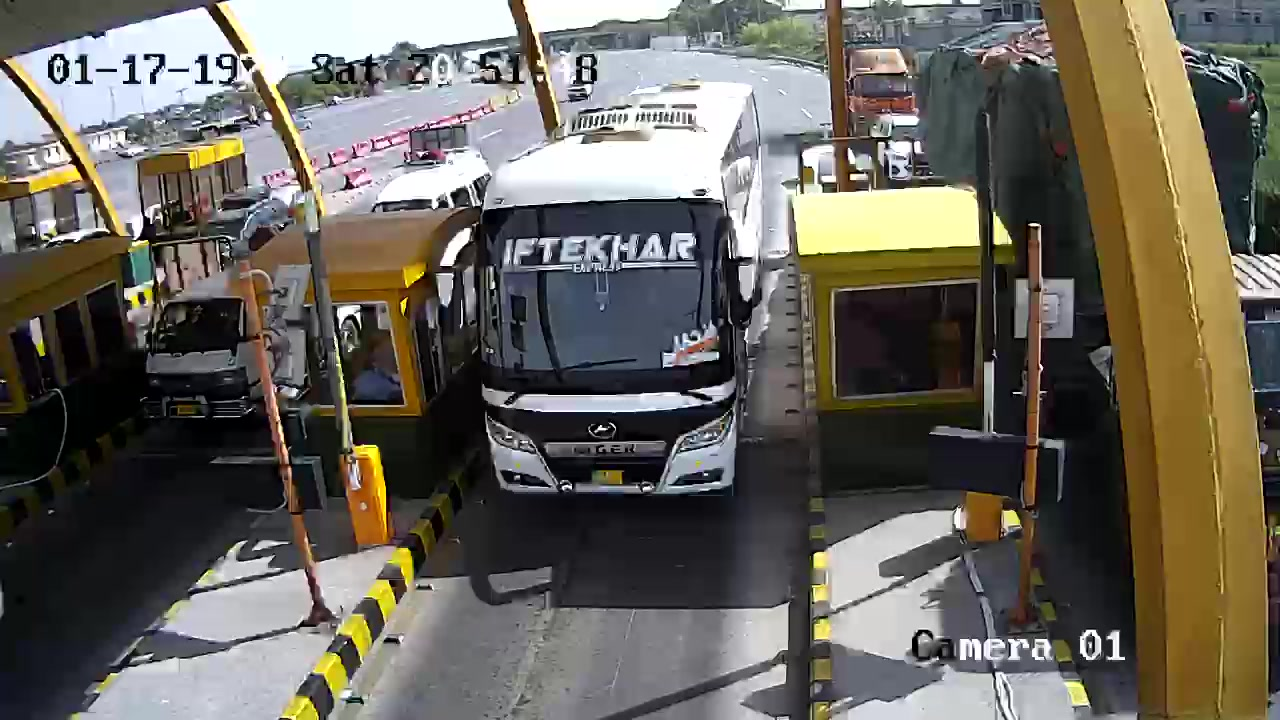F4: (481, 75, 765, 506)
